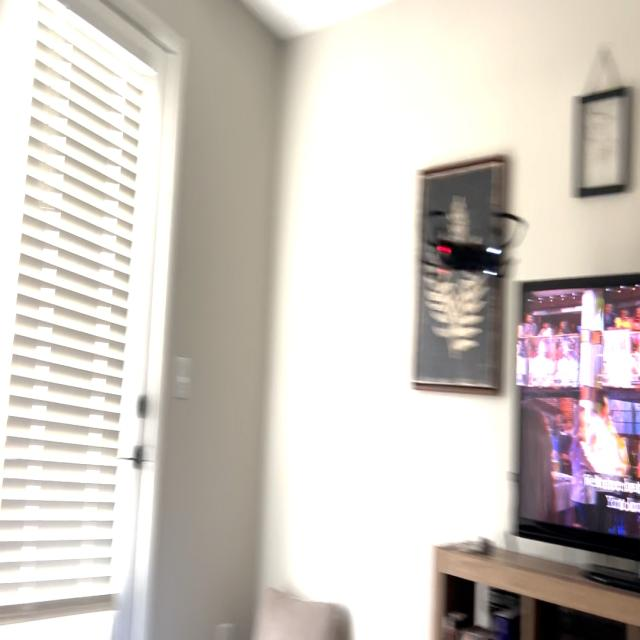drone: (409, 192, 537, 300)
